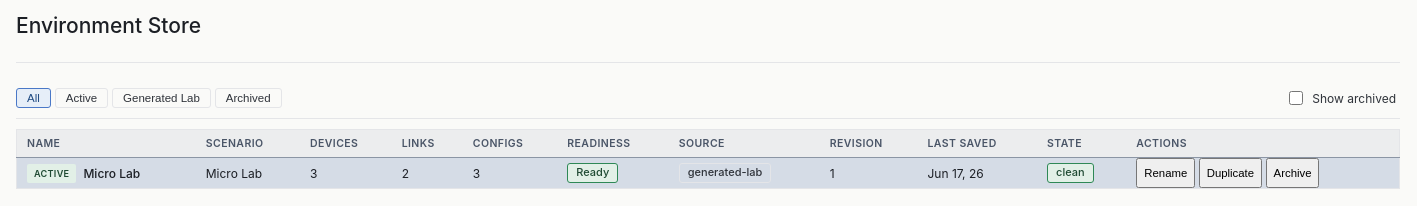
it: EnvironmentStorePanel › archived envs are hidden by default after archiving
The image size is (1417, 206).
expect the text "Archive" is shown: met, box [1274,167,1312,179]
Click the button "Archive".
click(1293, 173)  # box [1266,158,1320,188]
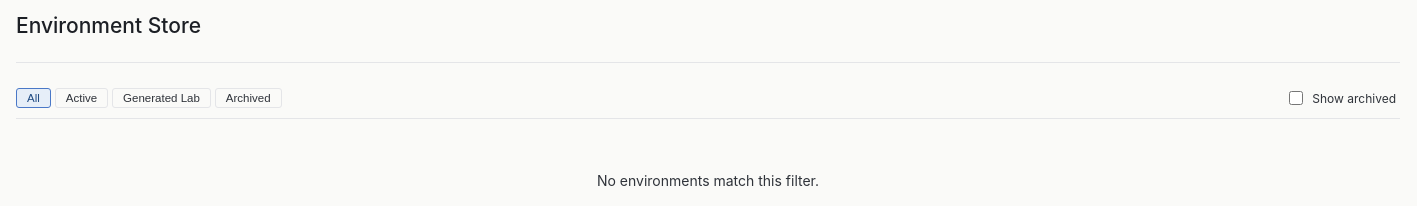
expect the text "No environments match this filter." is shown: met, box [597,172,819,189]
